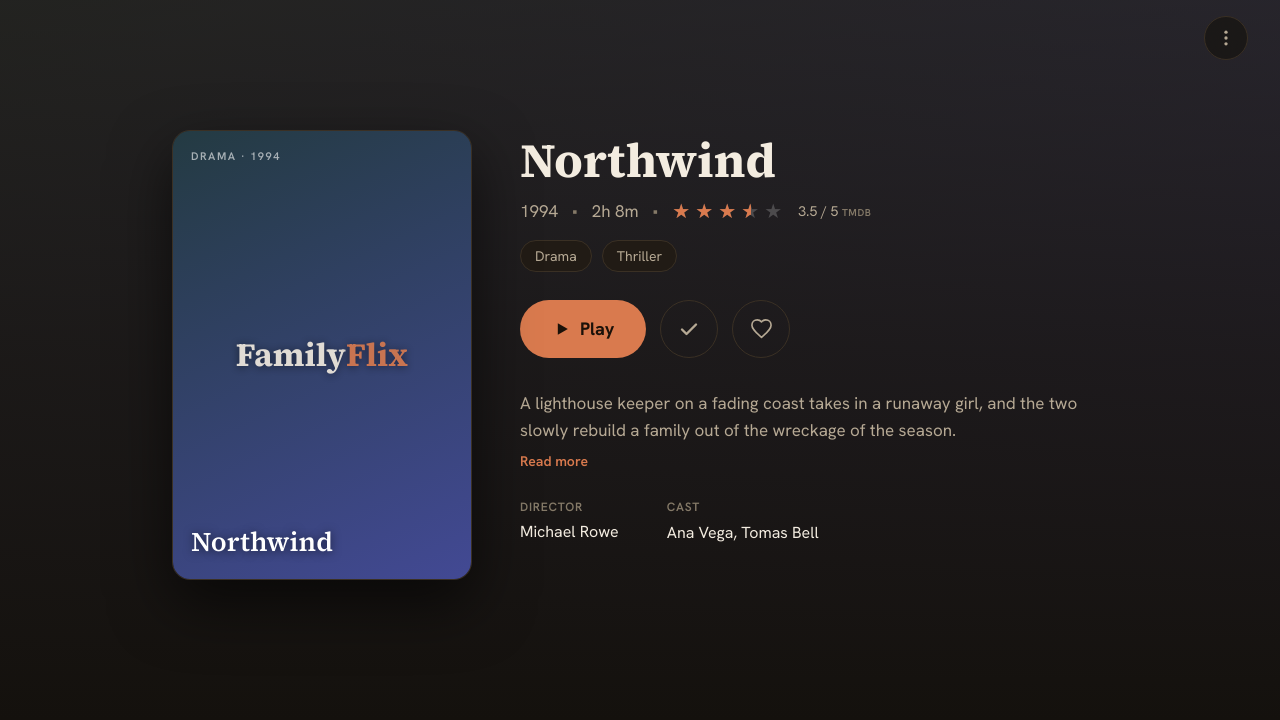
Test: MovieDetail — TMDB’s rating as the picker’s placeholder › saves the placeholder’s own segment as the household’s Rating
The width and height of the screenshot is (1280, 720).
What coordinates should you click on to do the following:
click the button named "Rate 3½ stars"
I would click on:
 (746, 211)
Its box is [741,201,751,221].
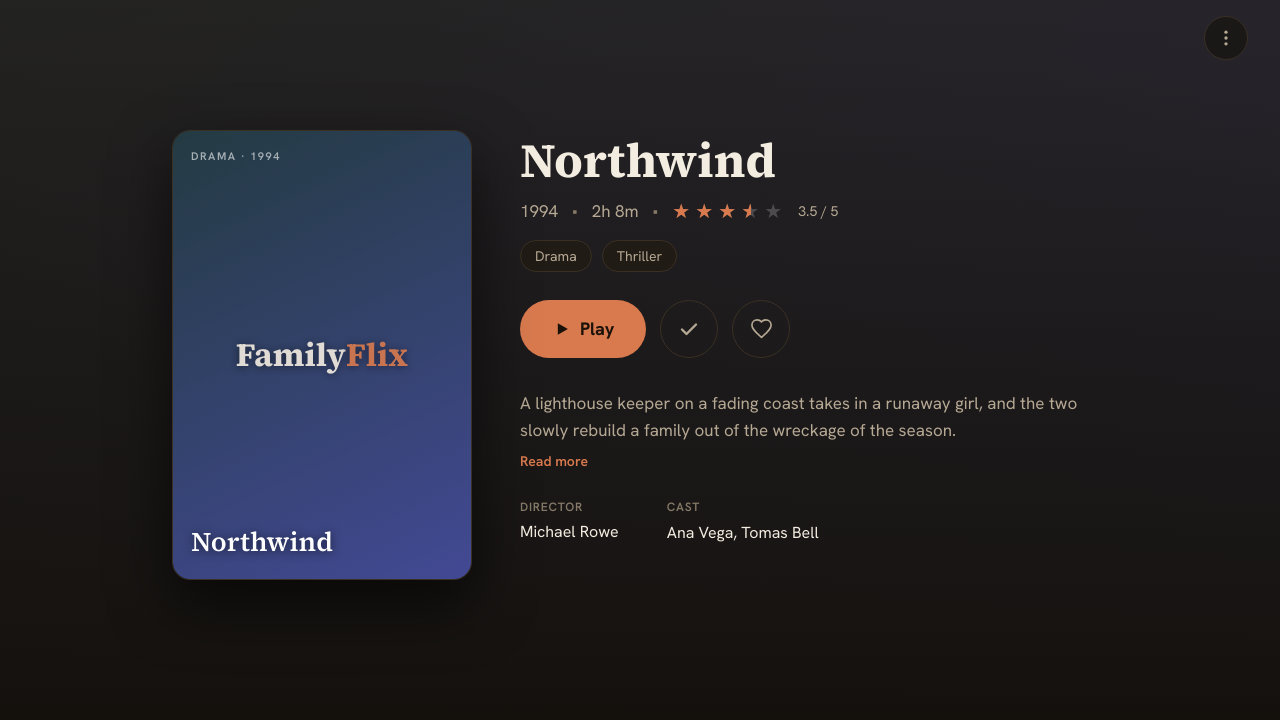
Expected: the text "TMDB" is gone
